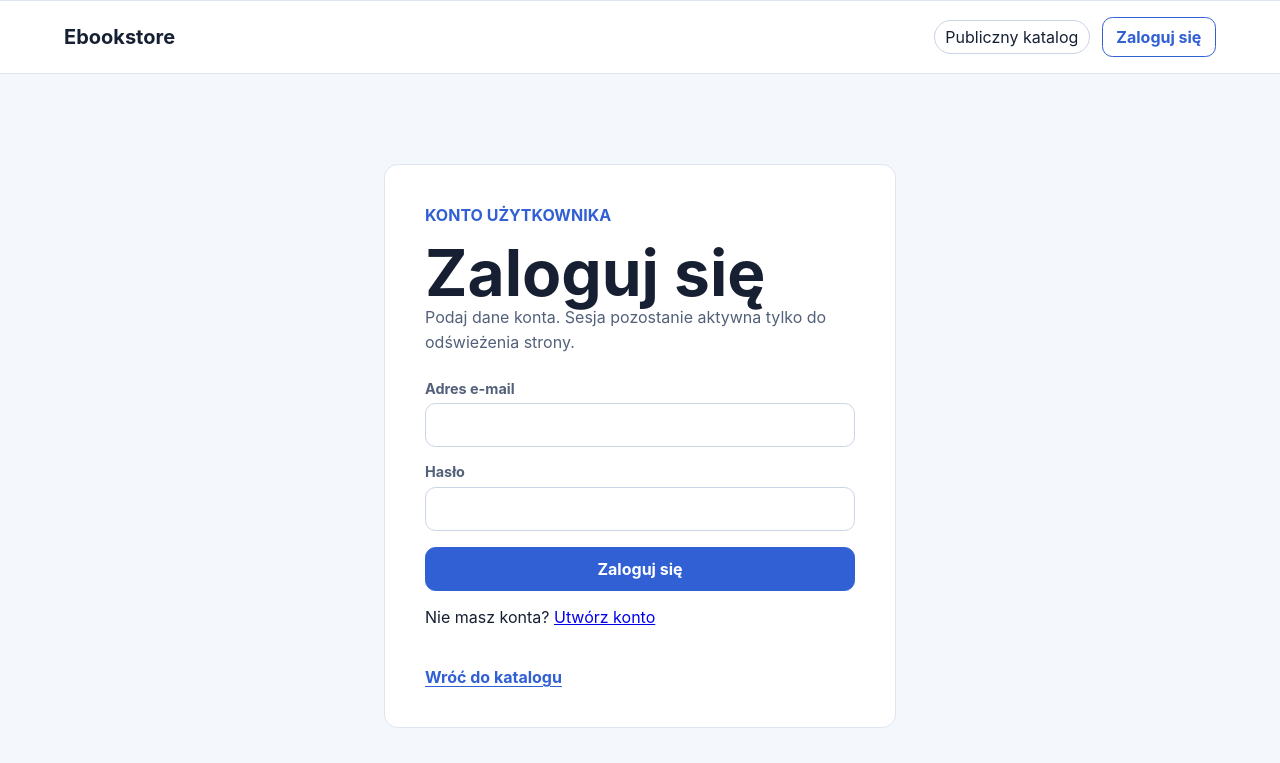
authentication session lifecycle › logs out explicitly and returns from a protected route to the catalog
In the field labelled "Adres e-mail": (640, 425) [425,403,855,447], type "user@example.com"
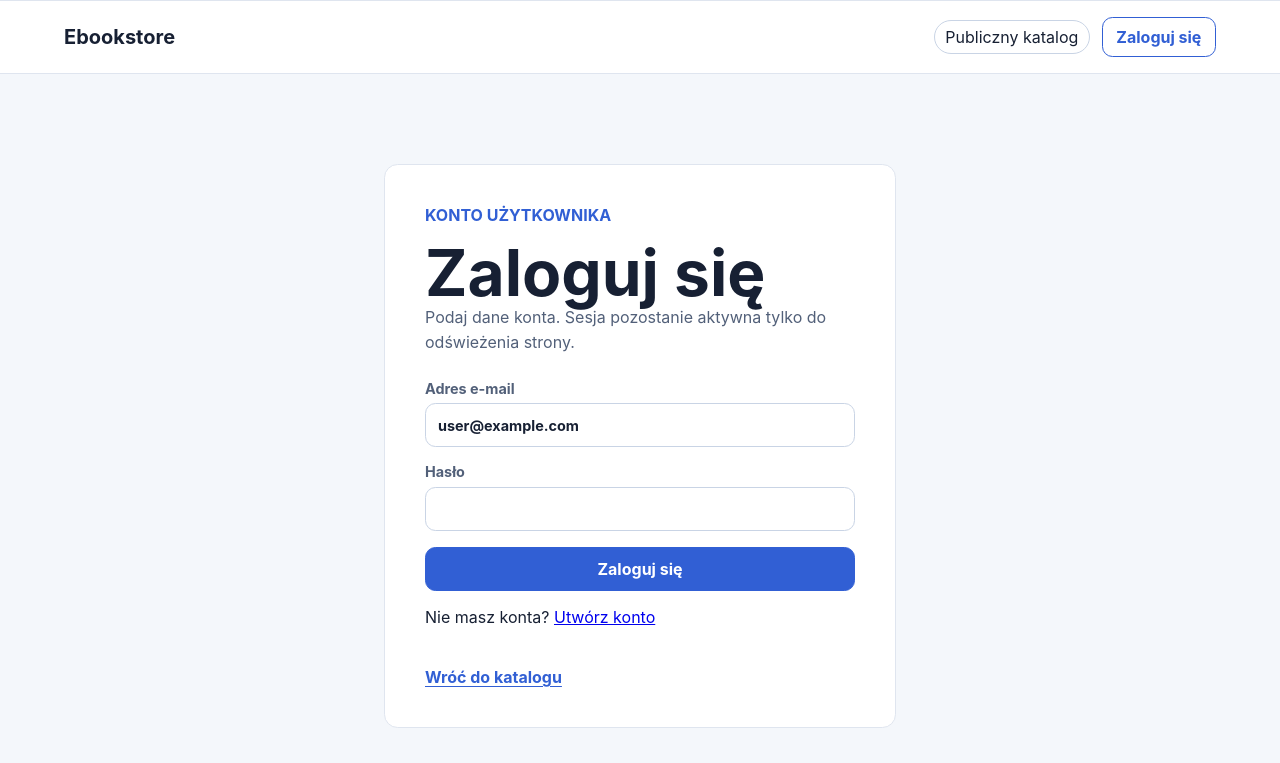
In the password field labelled "Hasło": (640, 509) [425,487,855,531], type "Correct-Horse-42"
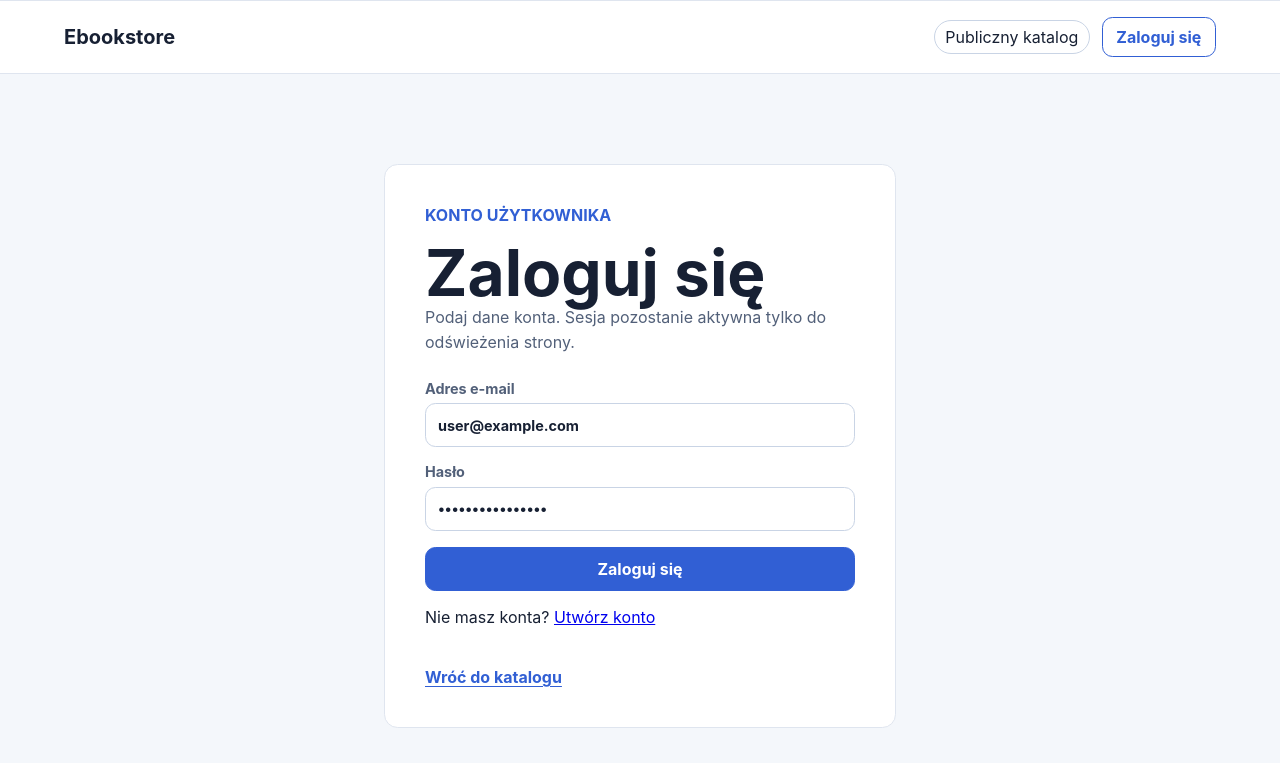
Click the button "Zaloguj się": (640, 569) [425,547,855,591]
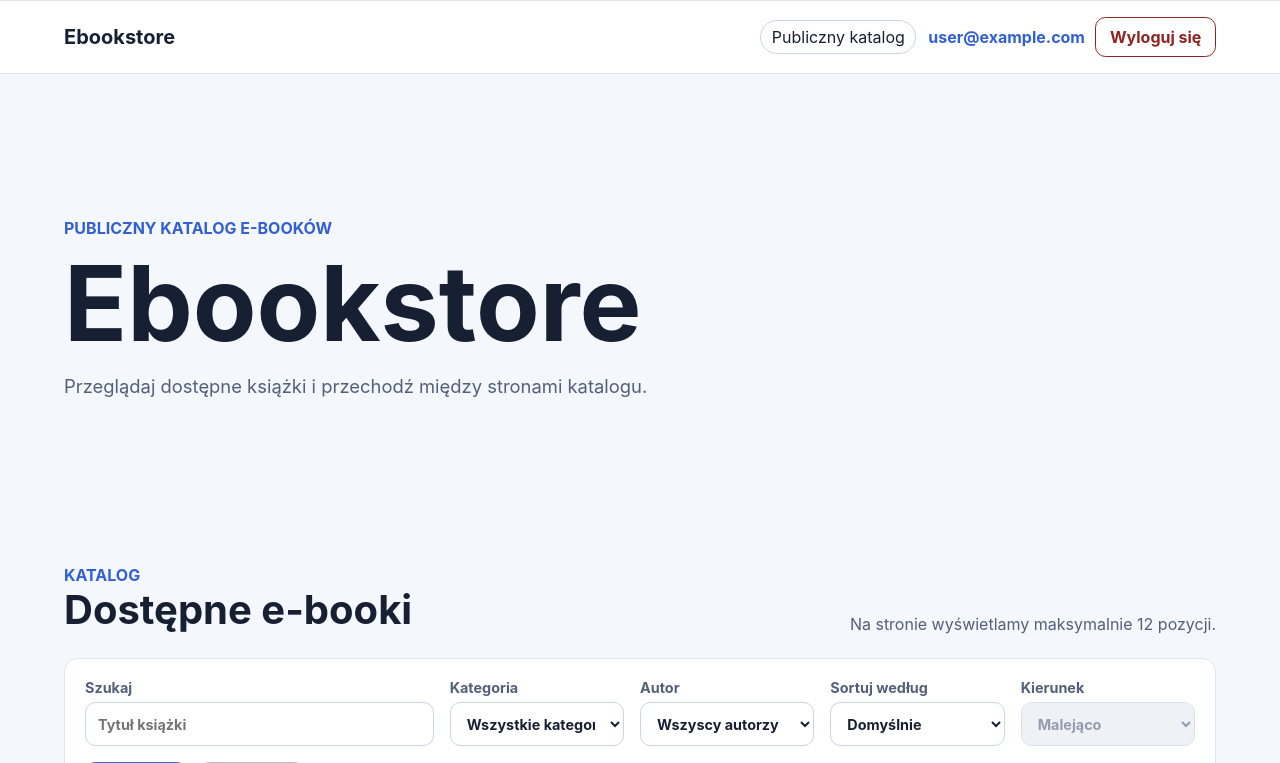
Expected: the link with aria-label "Zalogowano jako user@example.com" is shown
Click the link with aria-label "Zalogowano jako user@example.com": (1007, 37) [928,27,1085,47]
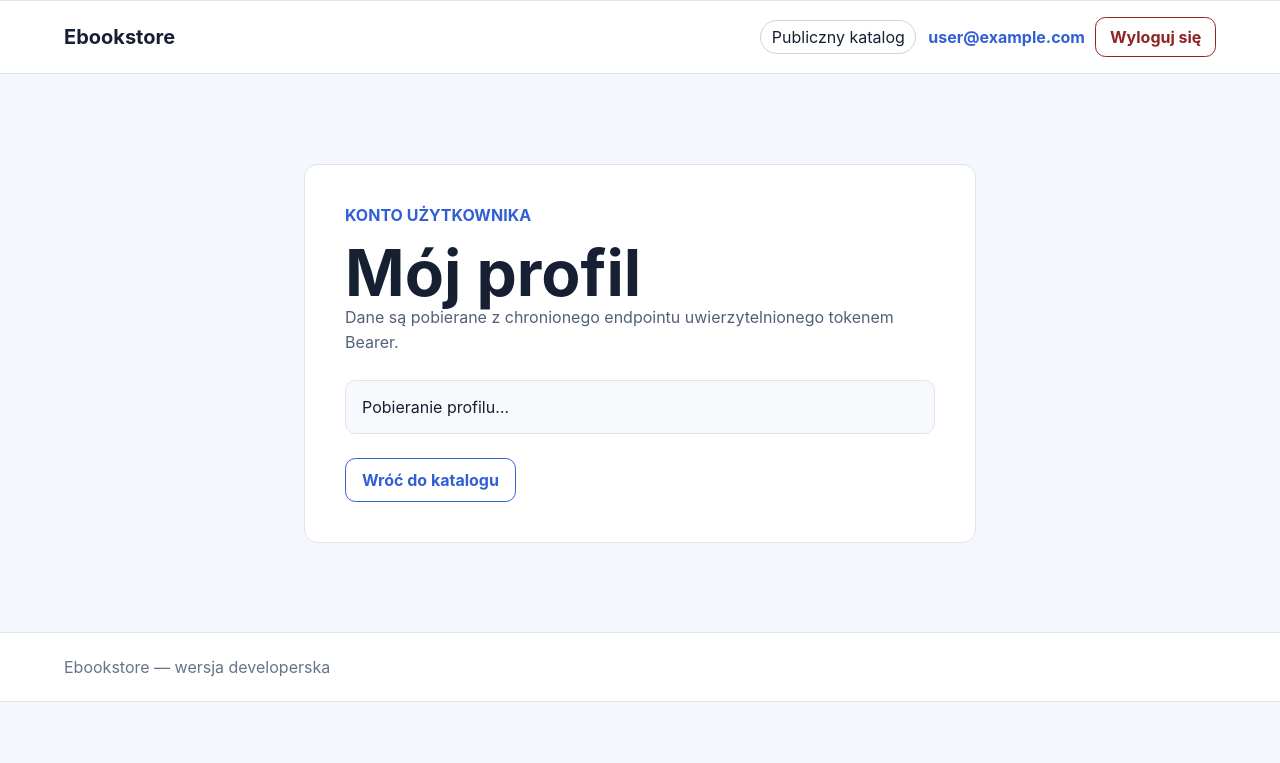
Click the button "Wyloguj się": (1156, 37) [1095,17,1216,57]
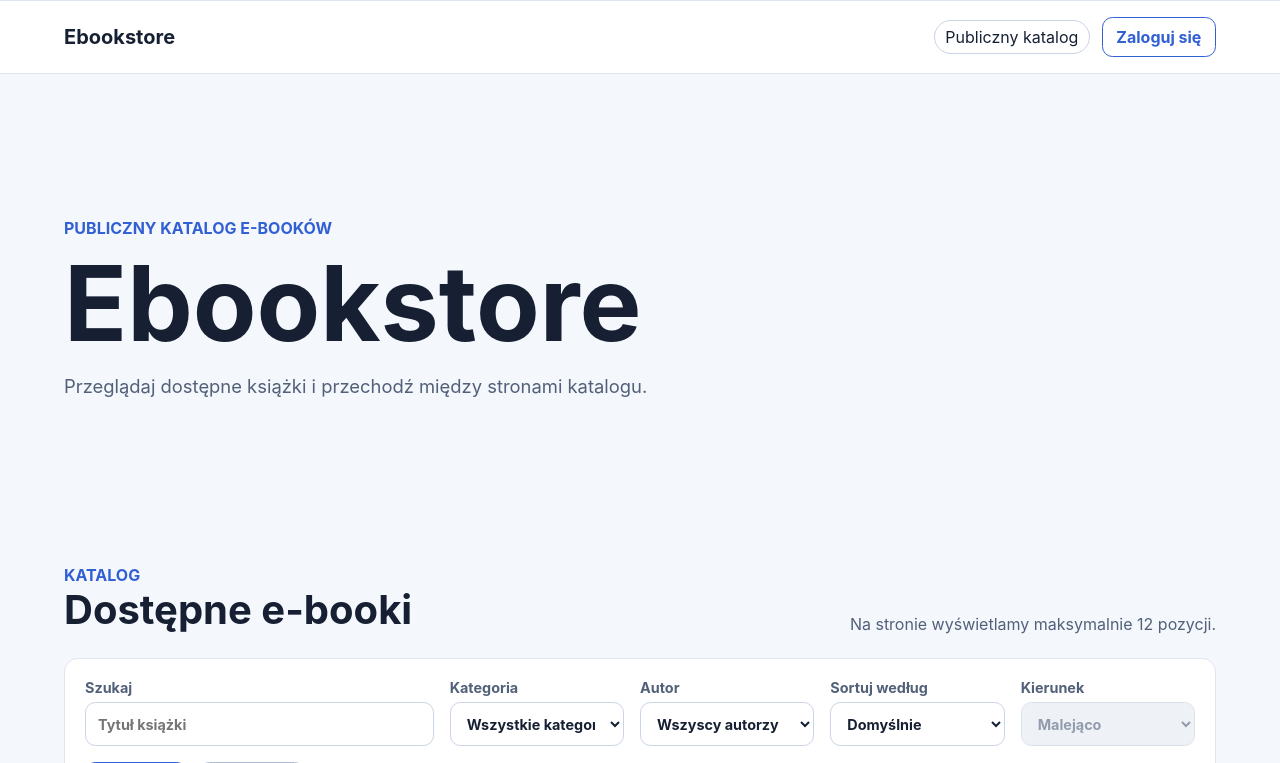
Expected: the link "Zaloguj się" is shown, [1102,17,1216,57]
